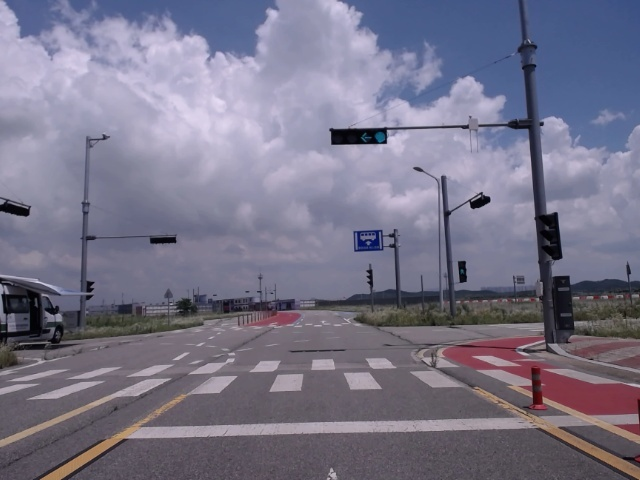all_green_4: (330, 129, 390, 143)
